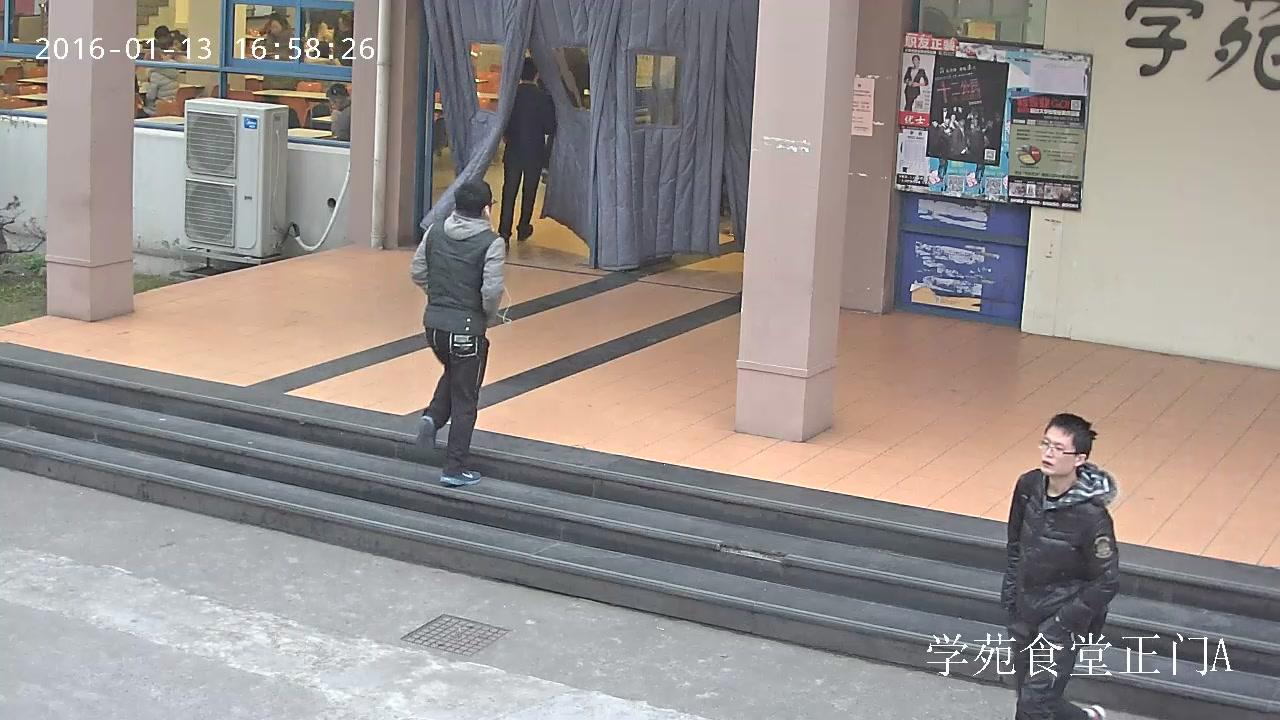person: (998, 412, 1120, 720), (409, 179, 505, 487), (497, 56, 555, 253), (257, 13, 295, 103), (137, 46, 179, 118), (326, 83, 352, 141), (903, 55, 928, 111)
